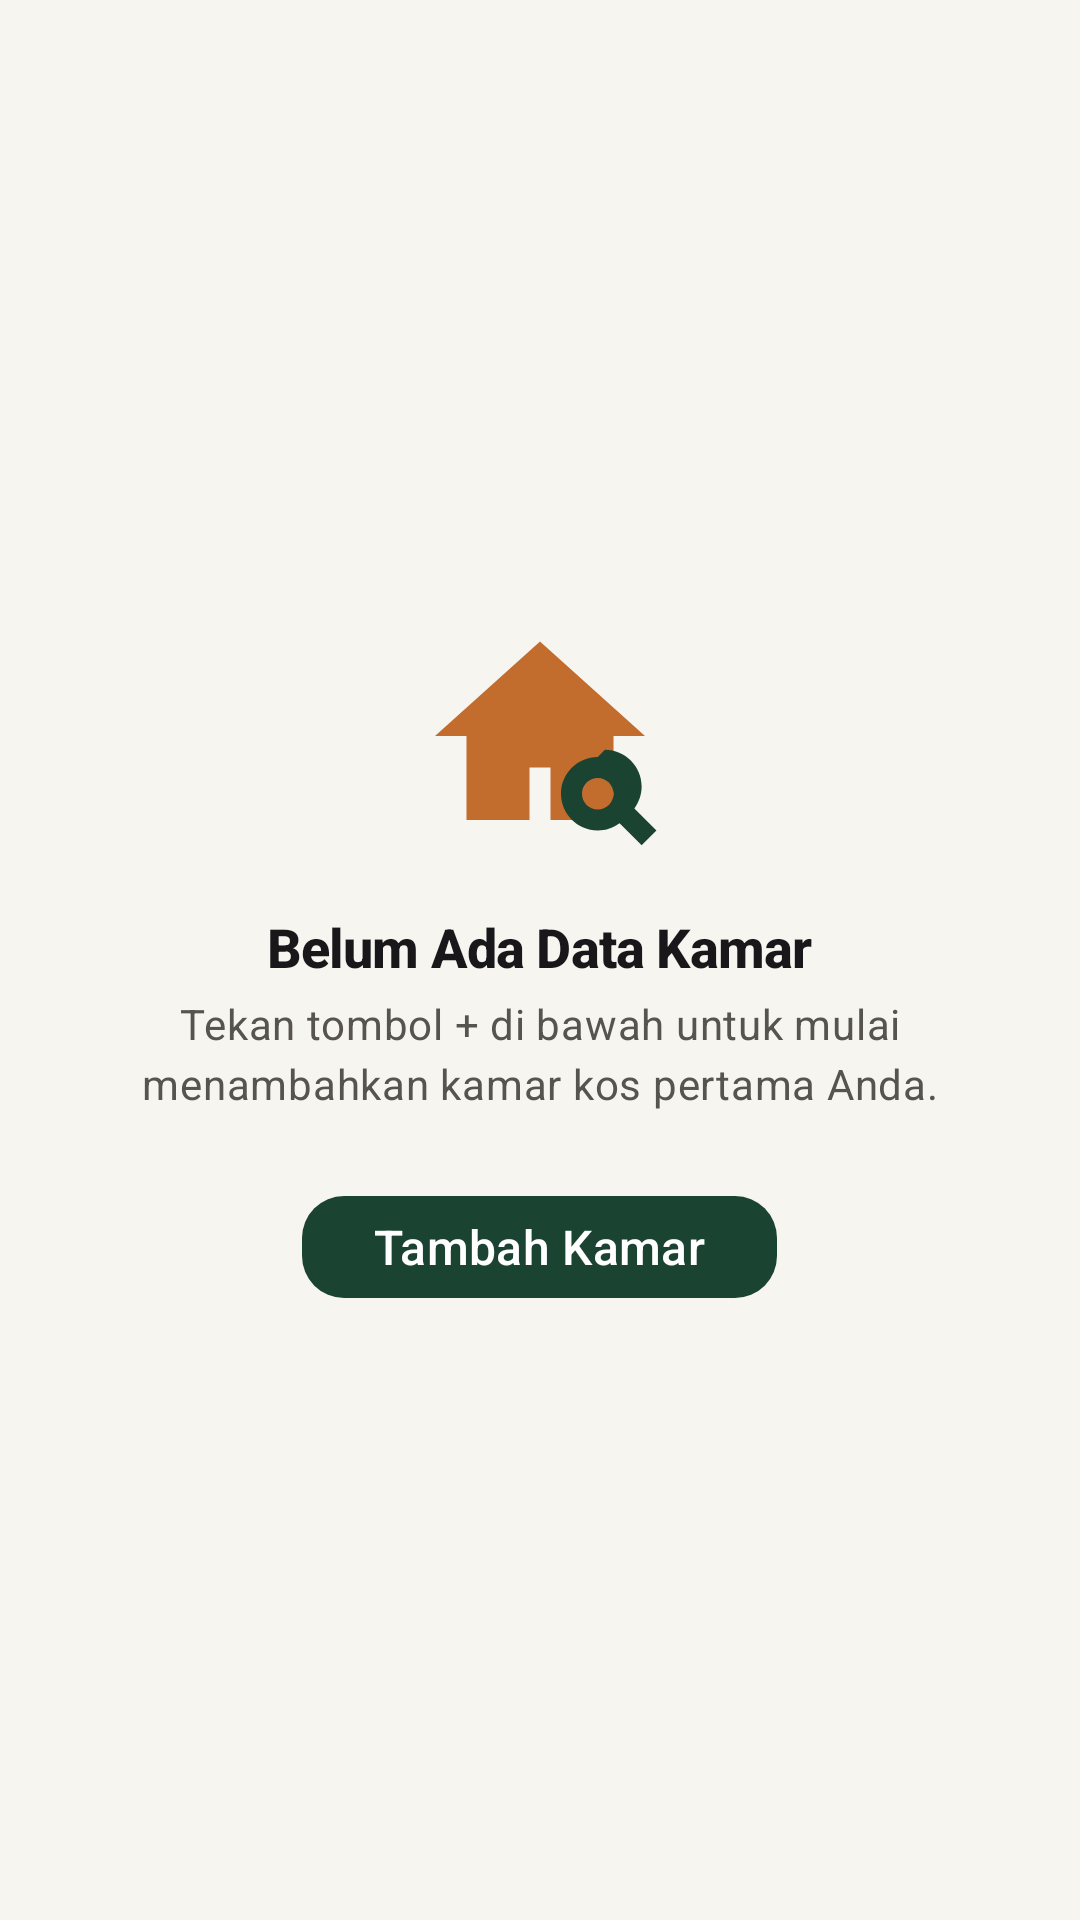

Named icons in this screenshot (1080px x 1920px) and their centers, (x=x, y=y):
Ilustrasi Data Kosong: (x=546, y=743)
